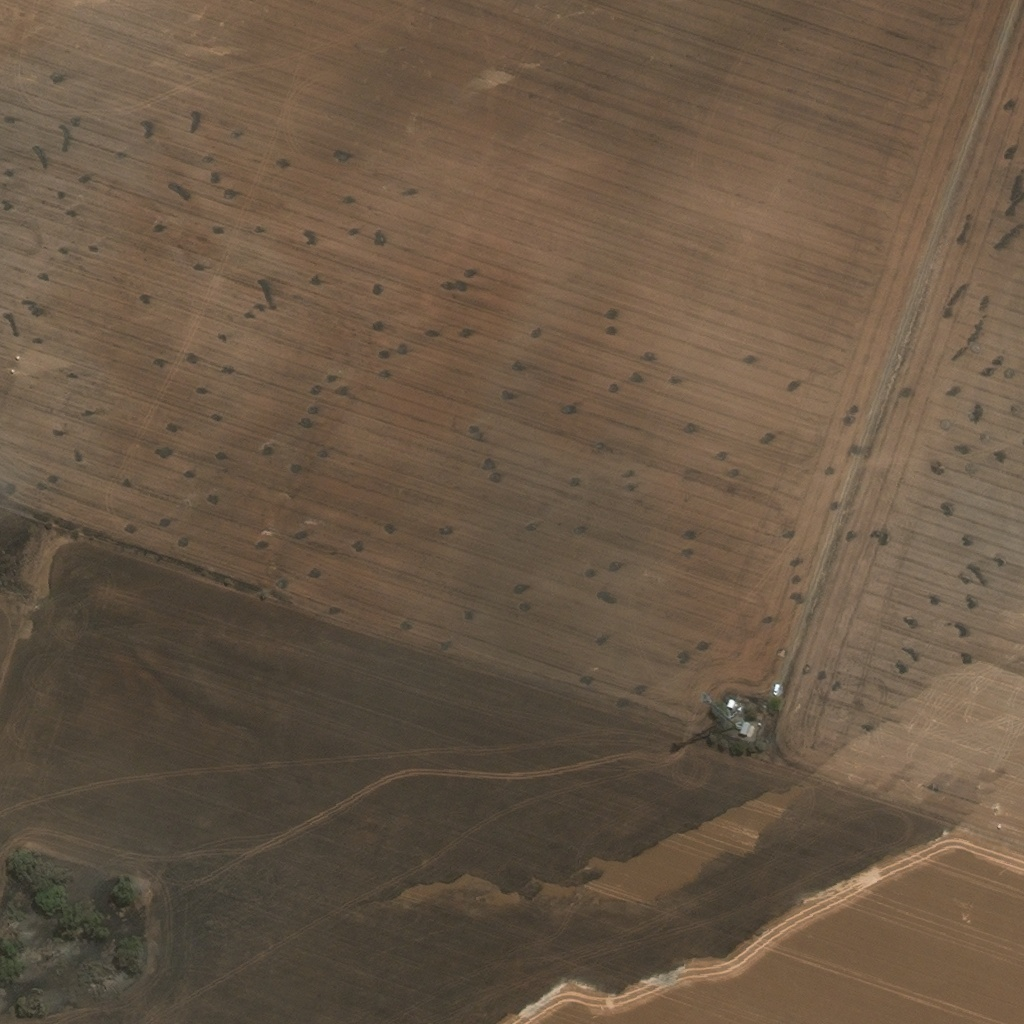0 no-damage: (739, 718, 754, 734), (728, 697, 737, 705), (736, 714, 743, 724), (756, 719, 761, 724), (738, 705, 742, 710)
